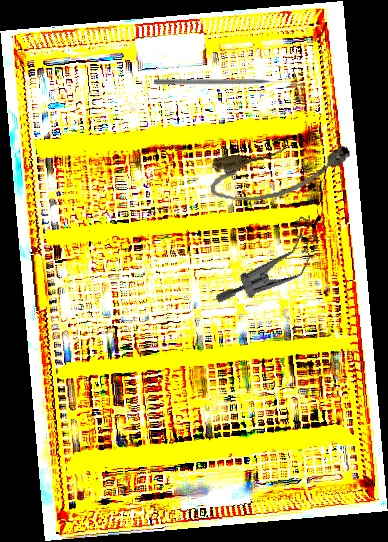Cannula: (206, 137, 355, 207)
Pusher: (154, 79, 290, 86)
Speculum: (212, 192, 332, 332)
